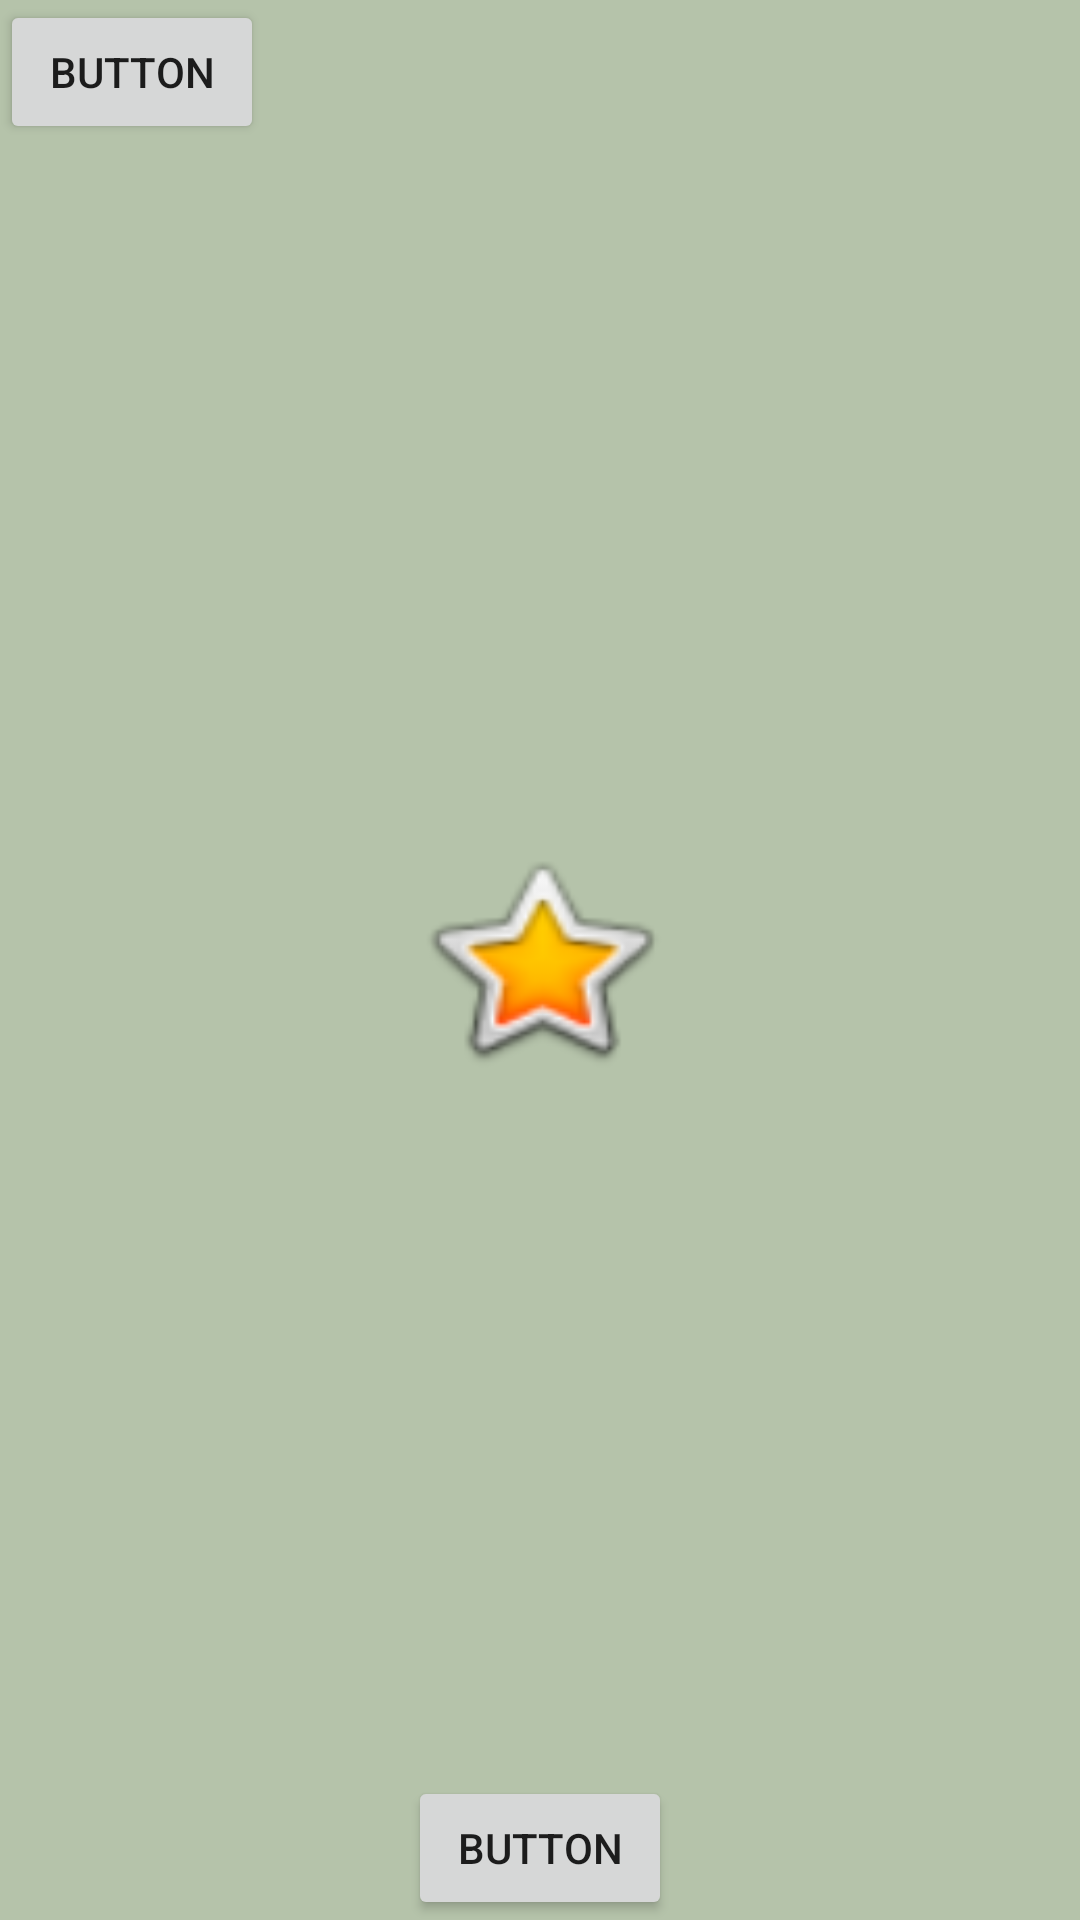

Named icons in this screenshot (1080×1920) and their bounding boxes, (x1, y1, x2, y2):
star on: (432, 865, 654, 1059)
